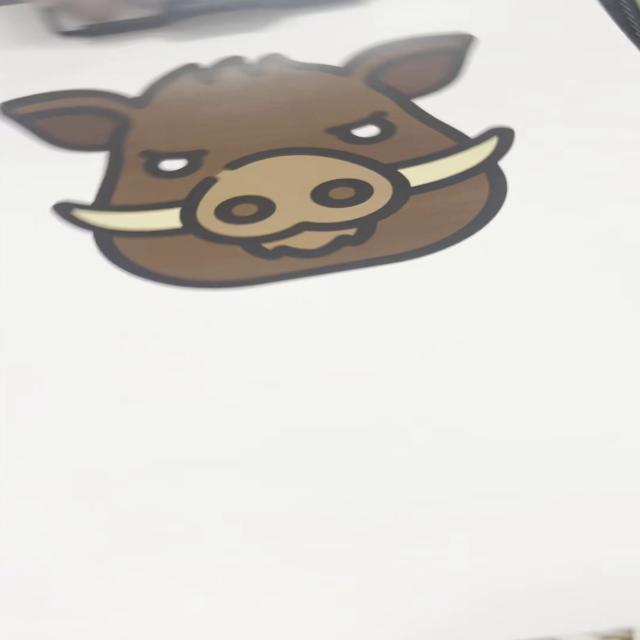animal: (3, 30, 585, 293)
